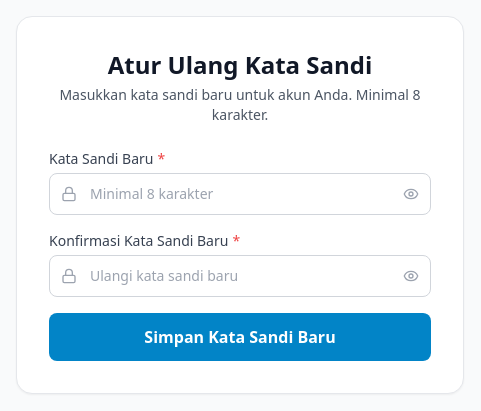
ResetPasswordPage › successfully resets password and shows success view
The width and height of the screenshot is (481, 411).
Type "passwordBaru123" into the password field with placeholder "Minimal 8 karakter" at (240, 194), box [49,173,431,215]
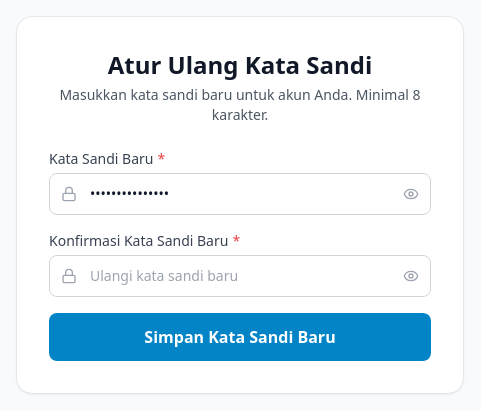
Type "passwordBaru123" into the password field with placeholder "Ulangi kata sandi baru" at (240, 276), box [49,255,431,297]
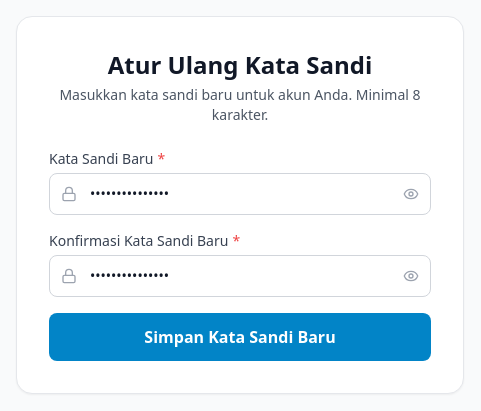
Click the button "Simpan Kata Sandi Baru" at (240, 337), box [49,313,431,361]
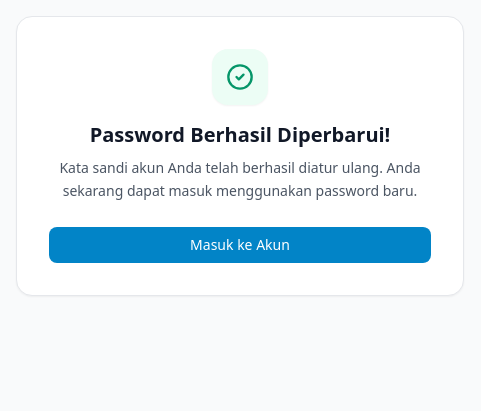
Now the heading "Password Berhasil Diperbarui!" is shown, box [90,121,390,148]
